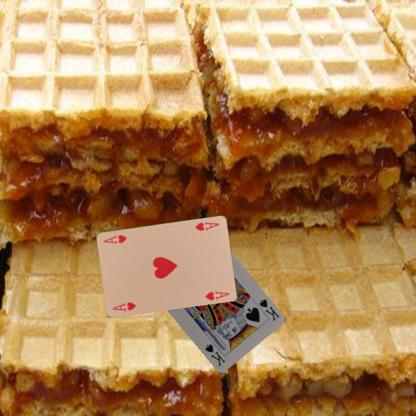Ah: (110, 299, 137, 313), (193, 219, 220, 232)
Ks: (256, 296, 281, 322)
